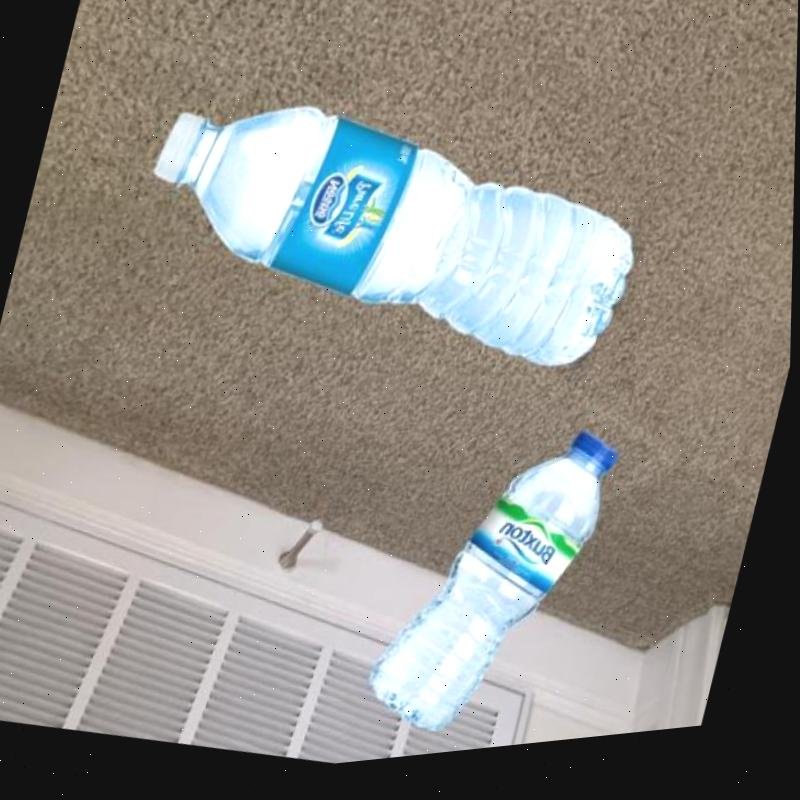botella: (118, 49, 666, 426), (354, 401, 626, 770)
